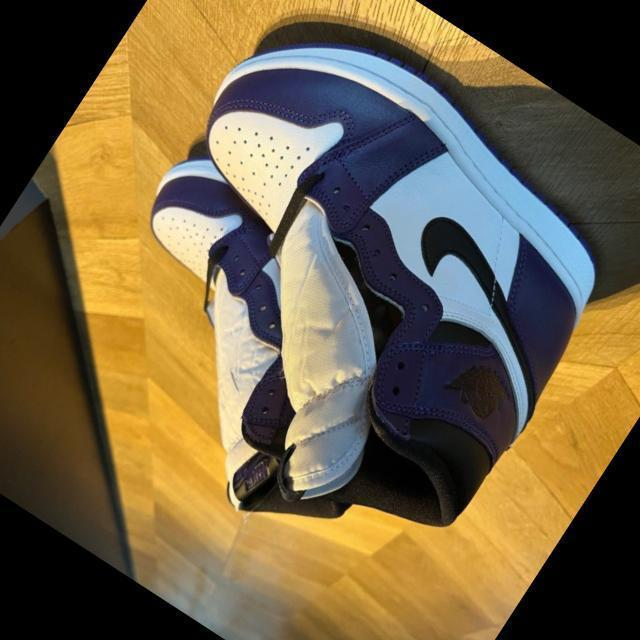nike original jordan 1: (46, 0, 640, 591), (19, 125, 496, 581)
